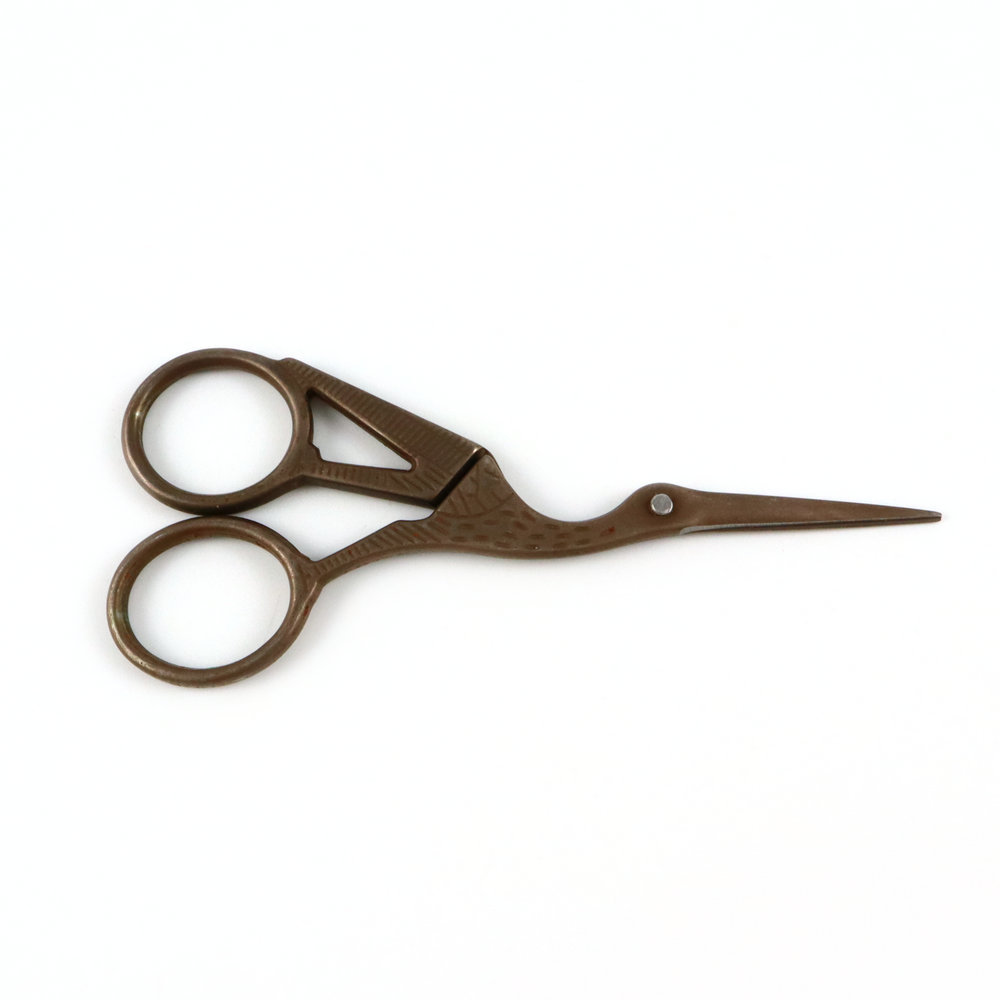scissors: (100, 341, 957, 708)
